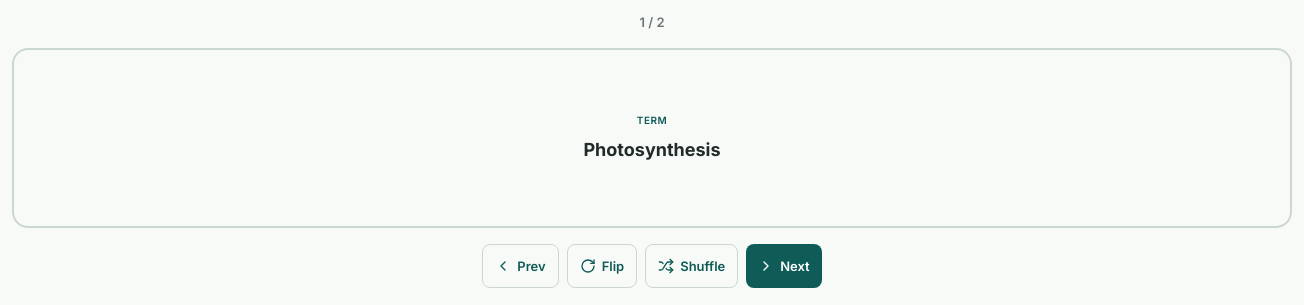
Test: Flashcards › Shuffle re-orders the deck and resets to the first card
The image size is (1304, 305).
Step 1. Click the button "Shuffle" → (692, 266), box [645,244,738,288]
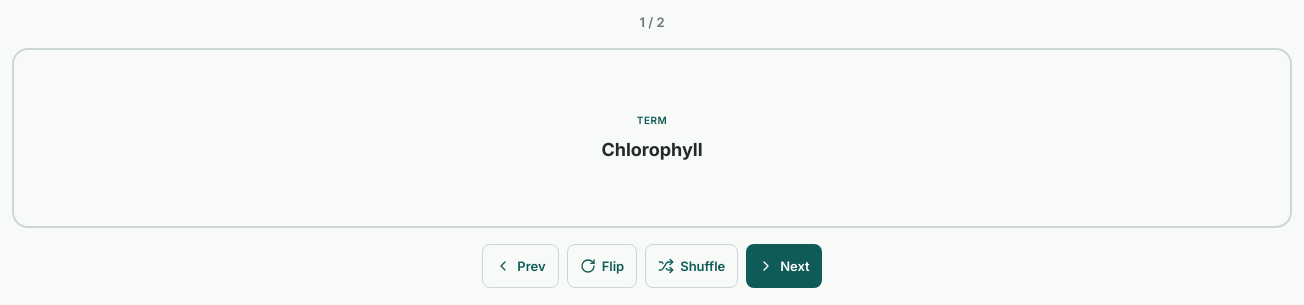
expect the text "1 / 2" is shown: met, box [640,12,665,32]
expect the text "Chlorophyll" is shown: met, box [601,136,703,164]
